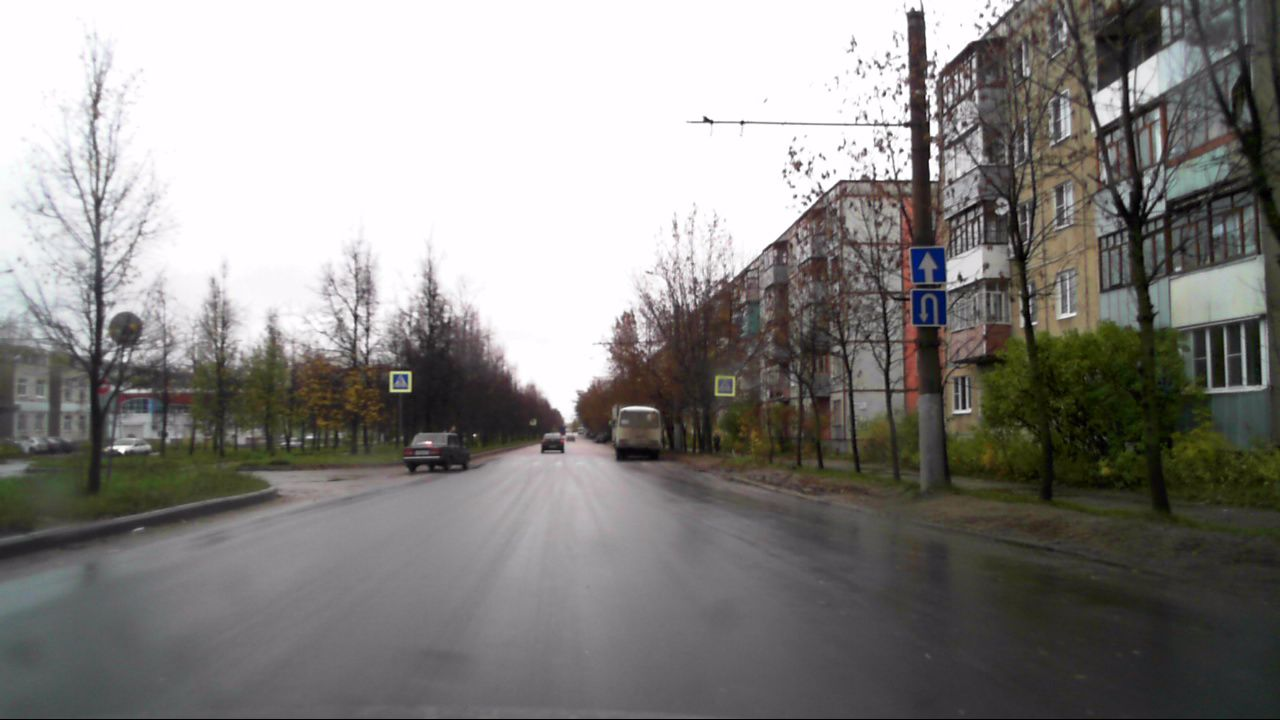U-turn: (912, 290, 947, 326)
